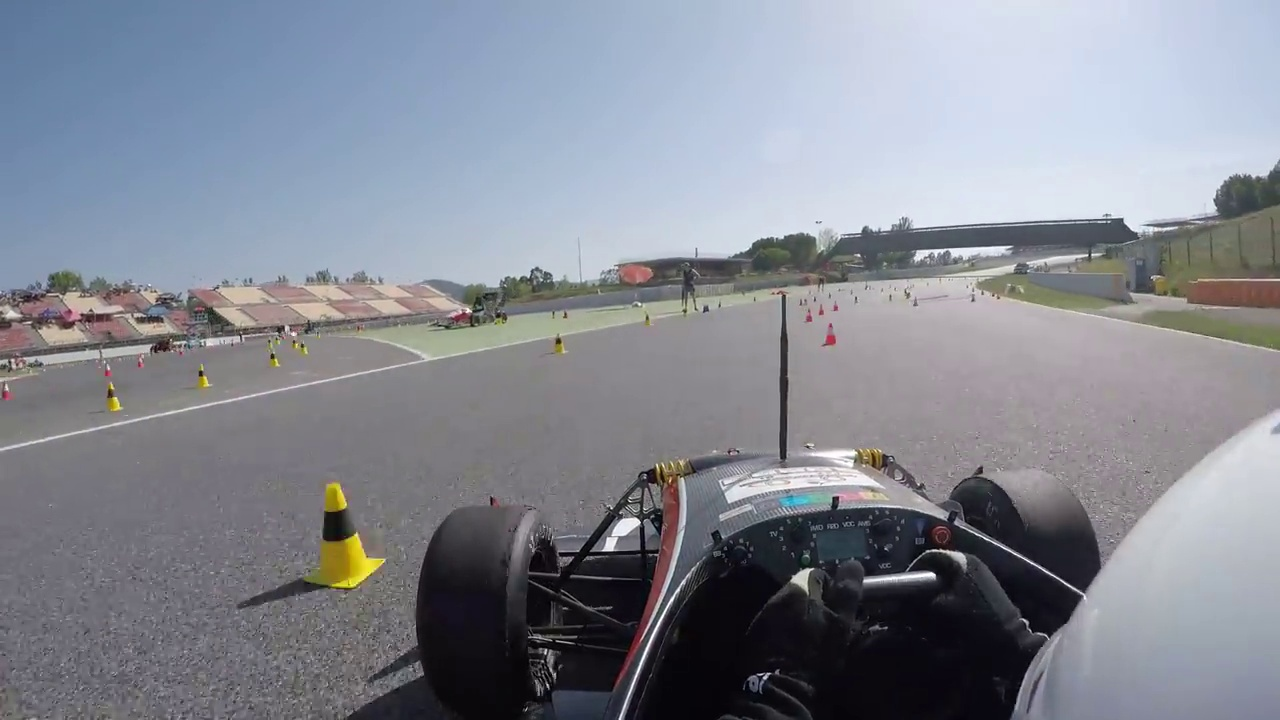Cone: (304, 484, 375, 586), (103, 380, 125, 411)
